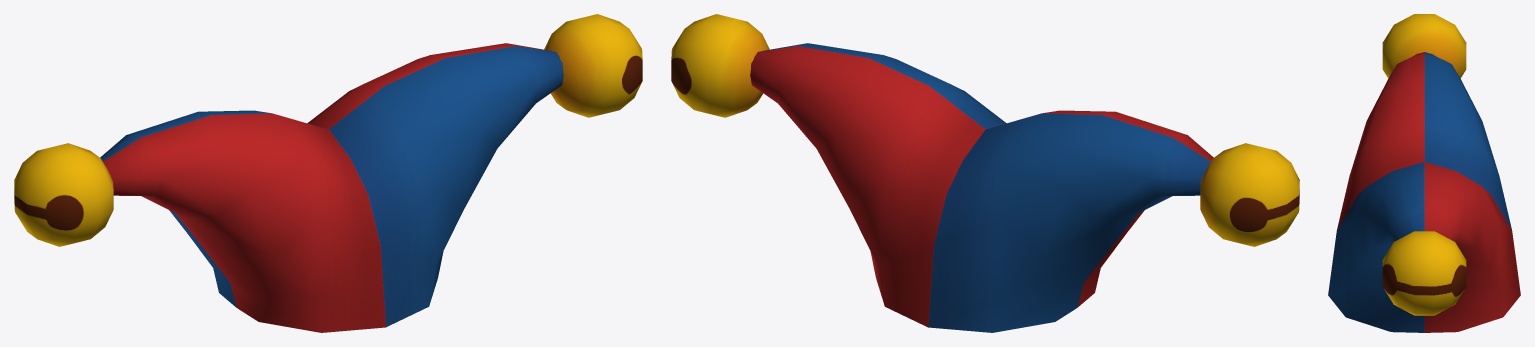
File: m_JesterHat01.obj
3 views of the same model, side by side, from view 1: azimuth 30°, elevation 25°; view 2: azimuth 150°, elevation 25°; view 3: azimuth 270°, elevation 25° (orthographic). The views are drawn at different scales.
Visible parts, largest first — view 1: m_JesterHat01_mi_JesterHat; view 2: m_JesterHat01_mi_JesterHat; view 3: m_JesterHat01_mi_JesterHat.
Boxes of the visible parts, x1=… form: m_JesterHat01_mi_JesterHat: x1=14, y1=14, x2=642, y2=332; m_JesterHat01_mi_JesterHat: x1=671, y1=14, x2=1299, y2=332; m_JesterHat01_mi_JesterHat: x1=1328, y1=14, x2=1520, y2=332.
Bounding box in the file's own units: 1.24 × 0.3847 × 0.3994.
Materials: 1 (1 with a texture image).
